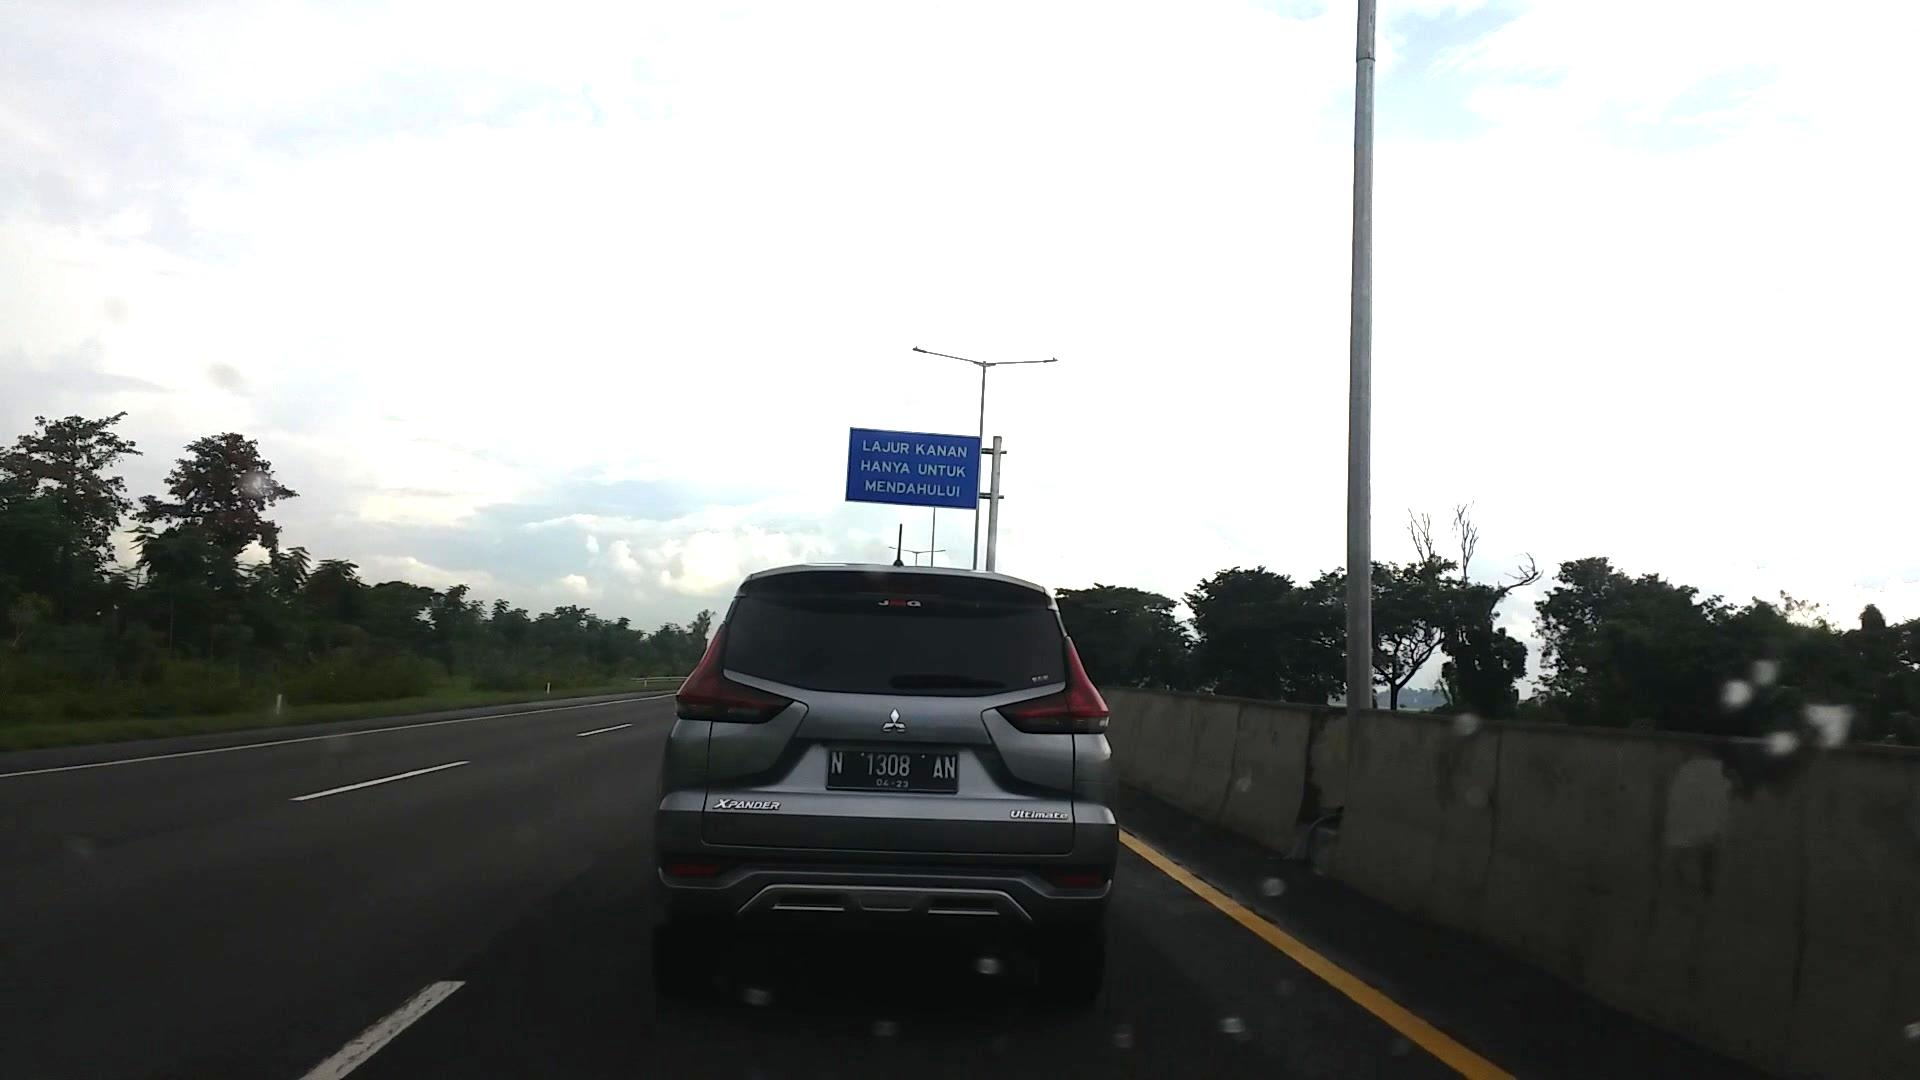plate_positive: (825, 748, 957, 793)
